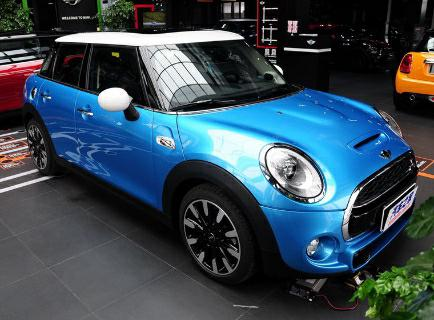MINI: (17, 26, 425, 289)
